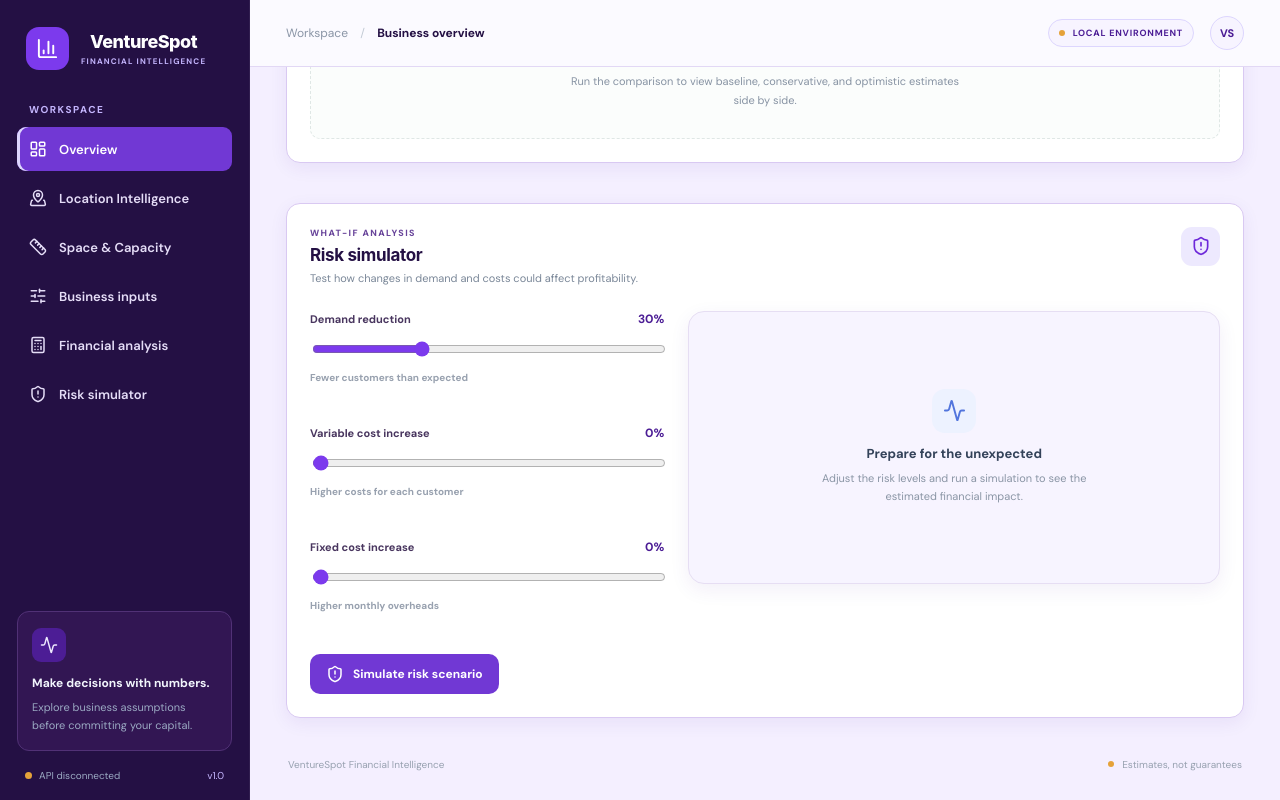
Test: VentureSpot dashboard › runs the risk simulation and displays the scenario result
(page scrolled)
Click the button "Simulate risk scenario" at (404, 674), box [310, 654, 499, 694]
(page scrolled)
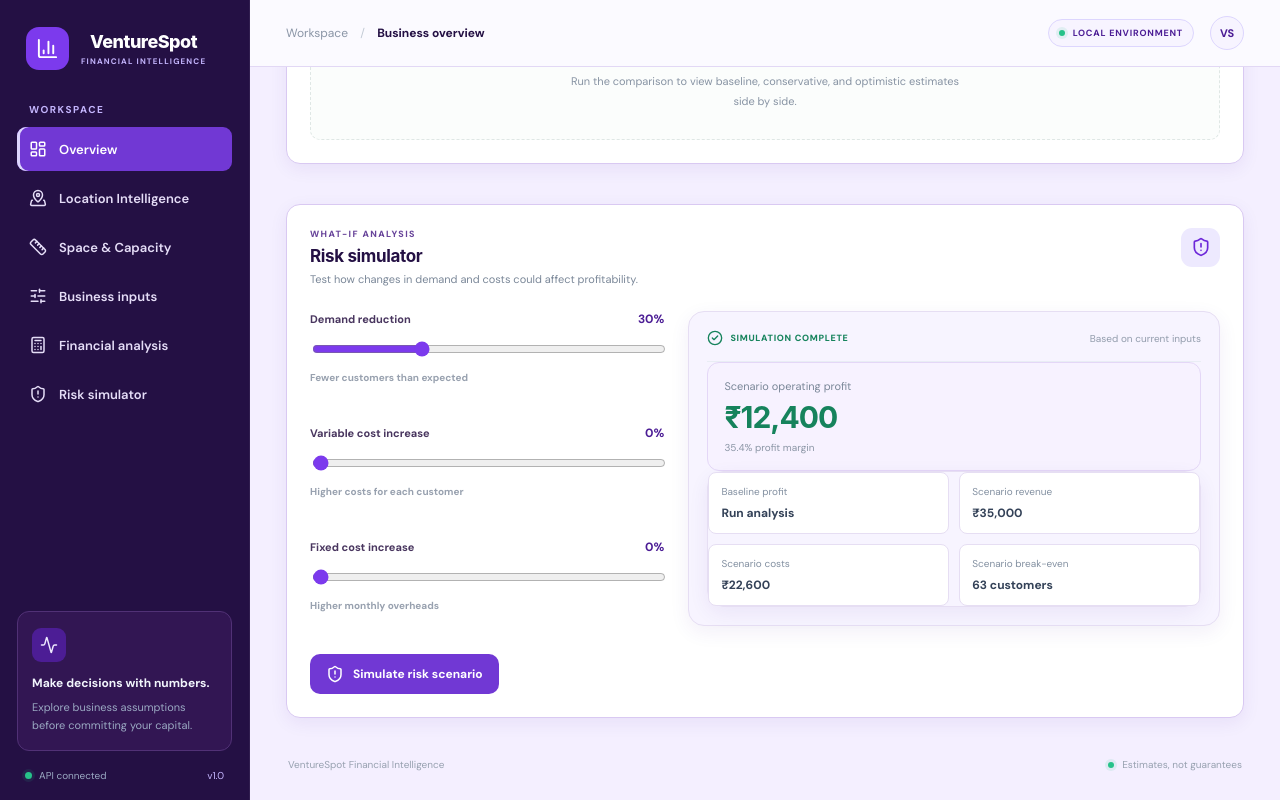
Expected: the text "SIMULATION COMPLETE" is shown, [707, 330, 849, 346]
Expected: the text "₹12,400" is shown, [724, 399, 837, 435]
Expected: the text "35.4% profit margin" is shown, [724, 441, 814, 454]
